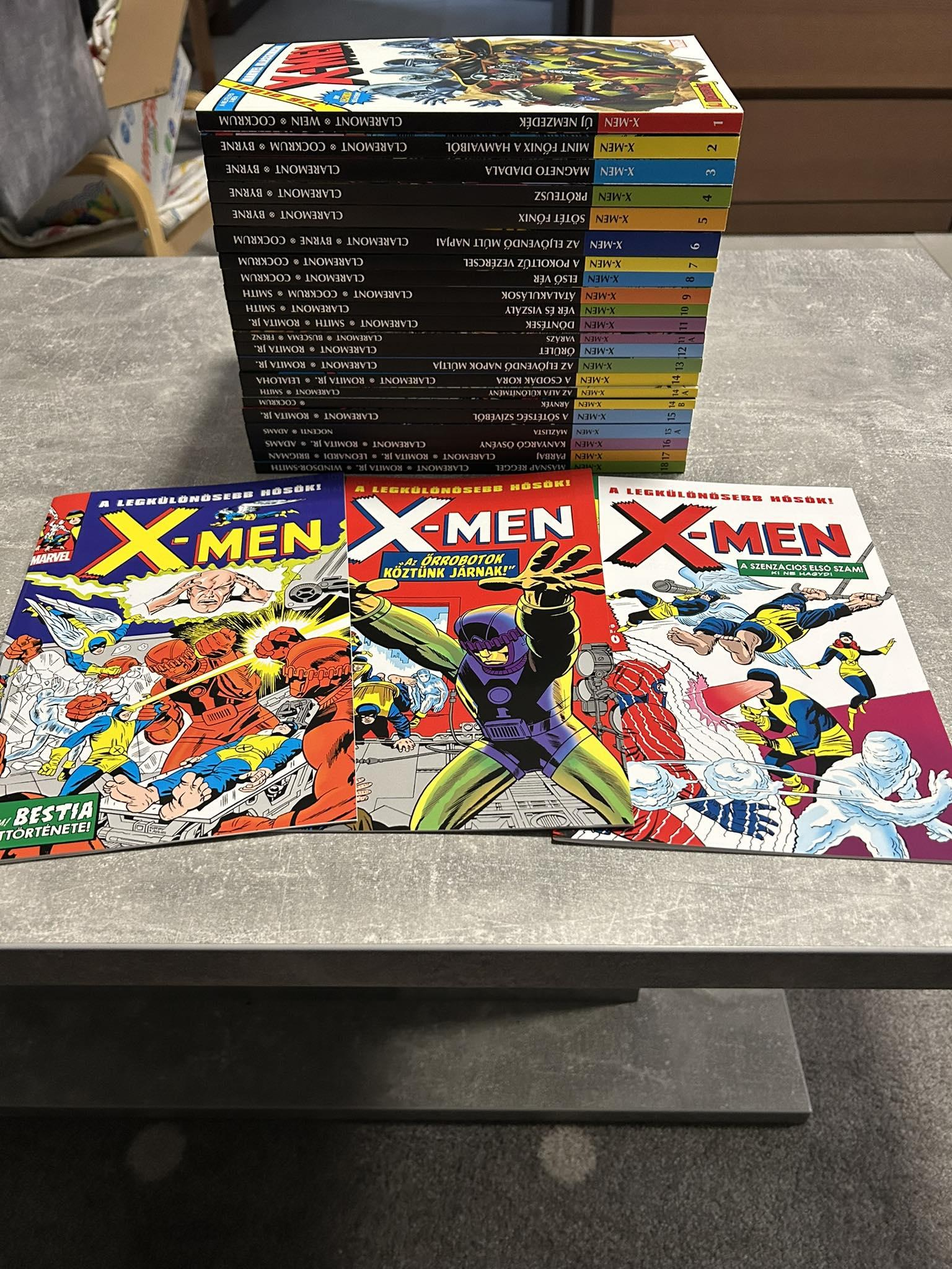comic: (575, 477, 952, 862), (0, 475, 363, 861), (346, 468, 632, 835), (198, 35, 741, 131)
